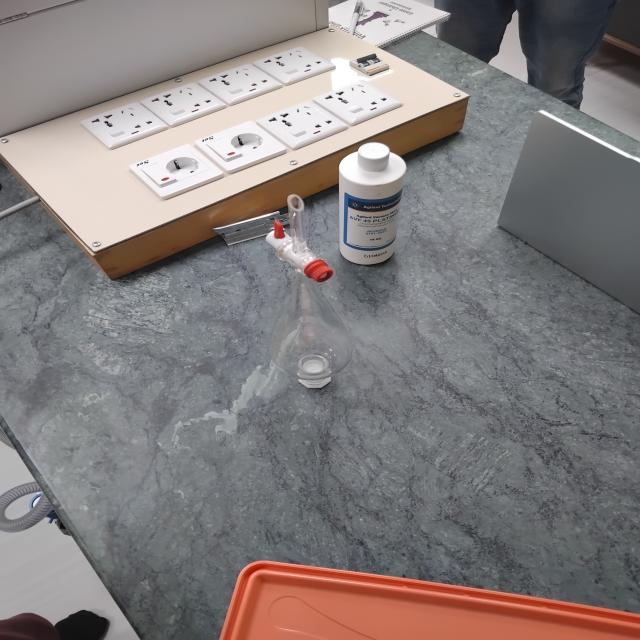Separating_Funnel: (226, 177, 370, 402)
